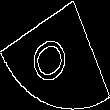O_NE: (30, 23, 80, 87)
